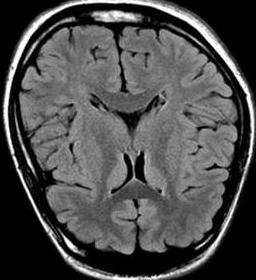Normal_Brain: (1, 1, 256, 280)
